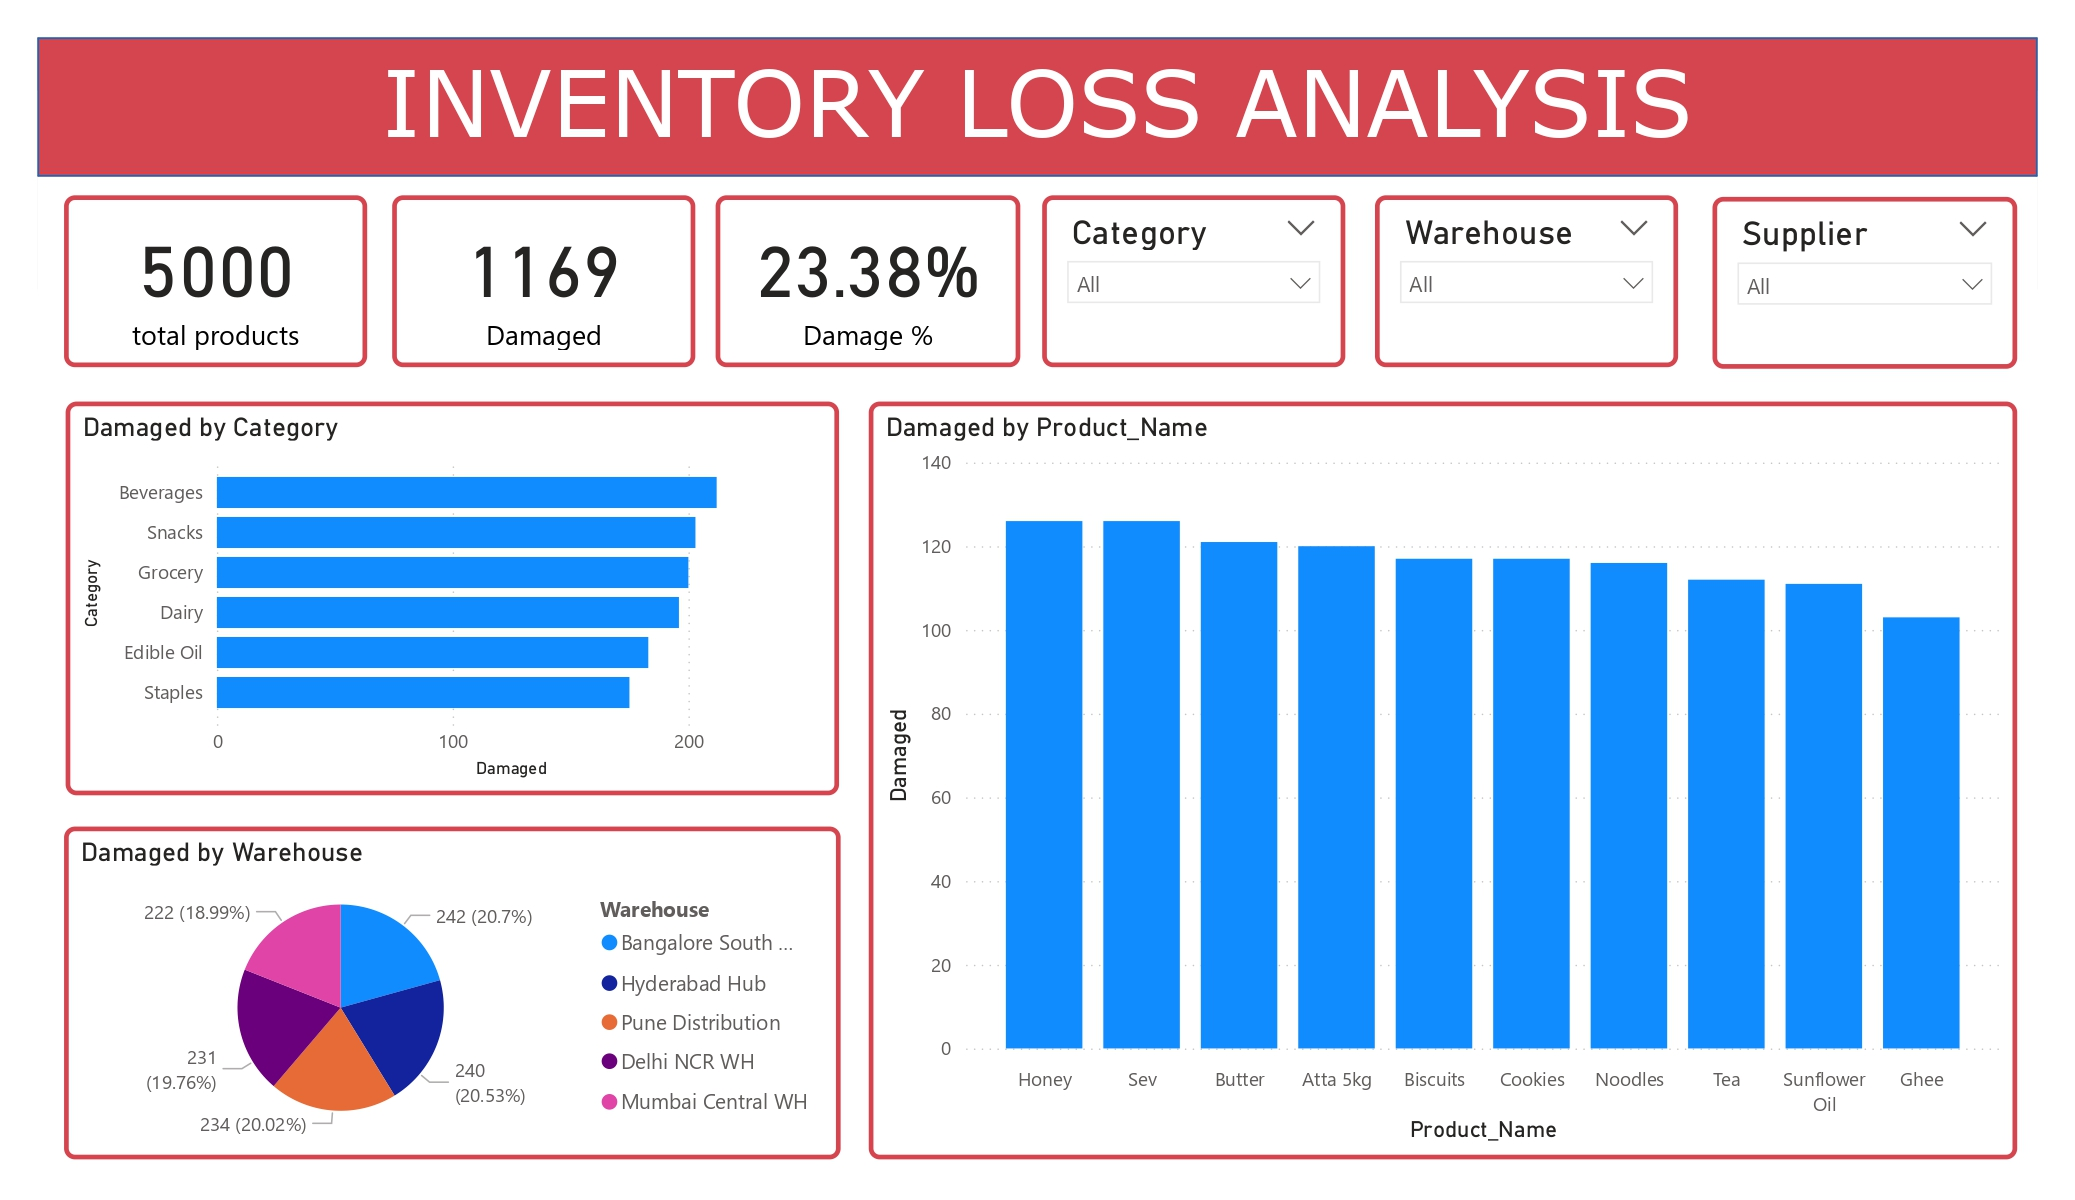

The dashboard page shown, as its layout file describes it:
{"tool":"powerbi","page":{"name":"Damaged","canvas":[1280,720],"ordinal":1},"visuals":[{"type":"shape","box":[0,0,1280,88.6],"z":0},{"type":"textbox","box":[0,0,1279.7,81.9],"z":1000},{"type":"card","fields":{"Values":["Dead_Stock_Inventory_Dataset.total products"]},"box":[17.1,101.4,194.3,110],"z":2000},{"type":"card","fields":{"Values":["Dead_Stock_Inventory_Dataset.Damaged"]},"box":[227.1,101.4,194.3,110],"z":3000},{"type":"card","fields":{"Values":["Dead_Stock_Inventory_Dataset.Damage %"]},"box":[434.3,101.4,194.3,110],"z":4000},{"type":"clusteredBarChart","fields":{"Category":["Category.Category"],"Y":["Dead_Stock_Inventory_Dataset.Damaged"]},"box":[18.3,233.3,495,251.7],"z":5000},{"type":"clusteredColumnChart","fields":{"Category":["Products.Product_Name"],"Y":["Dead_Stock_Inventory_Dataset.Damaged"]},"box":[531.7,233.3,735,485],"z":6000},{"type":"slicer","fields":{"Values":["Category.Category"]},"box":[642.9,101.2,194.1,110],"z":7000},{"type":"slicer","fields":{"Values":["Warehouse.Warehouse"]},"box":[855.7,101.4,194.3,110],"z":8000},{"type":"pieChart","fields":{"Category":["Warehouse.Warehouse"],"Y":["Dead_Stock_Inventory_Dataset.Damaged"]},"box":[16.9,504.6,496.9,213.8],"z":9000},{"type":"slicer","fields":{"Values":["Supplier.Supplier"]},"box":[1071.7,101.7,195,110],"z":10000}]}

Visuals, with their boxes on the page's 1280x720 design canvas (x1, y1, x2, y2). These are canvas units, not pixel positions in the 2075x1200 screenshot, which may show the page scaled, cropped or inside an application window:
shape: box(0, 0, 1280, 89)
textbox: box(0, 0, 1280, 82)
card - Dead_Stock_Inventory_Dataset.total products: box(17, 101, 211, 211)
card - Dead_Stock_Inventory_Dataset.Damaged: box(227, 101, 421, 211)
card - Dead_Stock_Inventory_Dataset.Damage %: box(434, 101, 629, 211)
clusteredBarChart - Category.Category x Dead_Stock_Inventory_Dataset.Damaged: box(18, 233, 513, 485)
clusteredColumnChart - Products.Product_Name x Dead_Stock_Inventory_Dataset.Damaged: box(532, 233, 1267, 718)
slicer - Category.Category: box(643, 101, 837, 211)
slicer - Warehouse.Warehouse: box(856, 101, 1050, 211)
pieChart - Warehouse.Warehouse x Dead_Stock_Inventory_Dataset.Damaged: box(17, 505, 514, 718)
slicer - Supplier.Supplier: box(1072, 102, 1267, 212)
